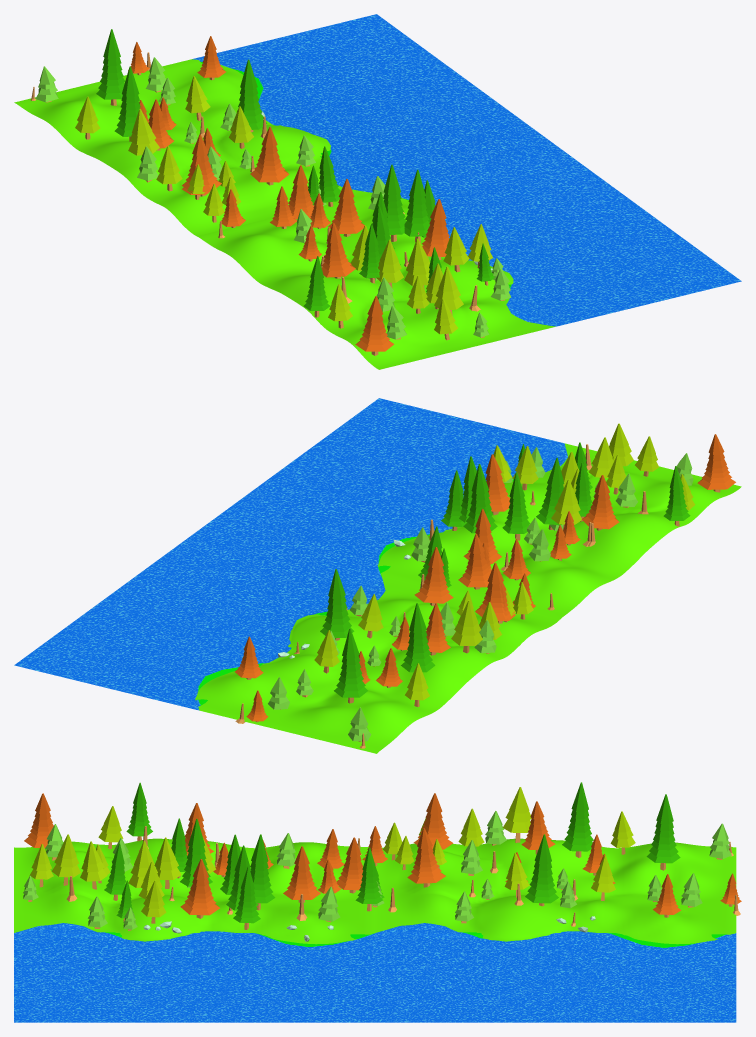
The model's file is Zımpara1.fbx.
The picture shows the model from 3 angles, top to bottom: view 1: azimuth 30°, elevation 25°; view 2: azimuth 150°, elevation 25°; view 3: azimuth 270°, elevation 25°; orthographic projection.
Visible parts, largest first — view 1: Cylinder.046; view 2: Cylinder.046; view 3: Cylinder.046.
Part boxes in pixels (x1,y1,x2,y2): Cylinder.046: (14,14,741,369); Cylinder.046: (14,398,741,753); Cylinder.046: (14,782,741,1022).
Size of the model in its own units: 21.92 by 4.91 by 37.6.
